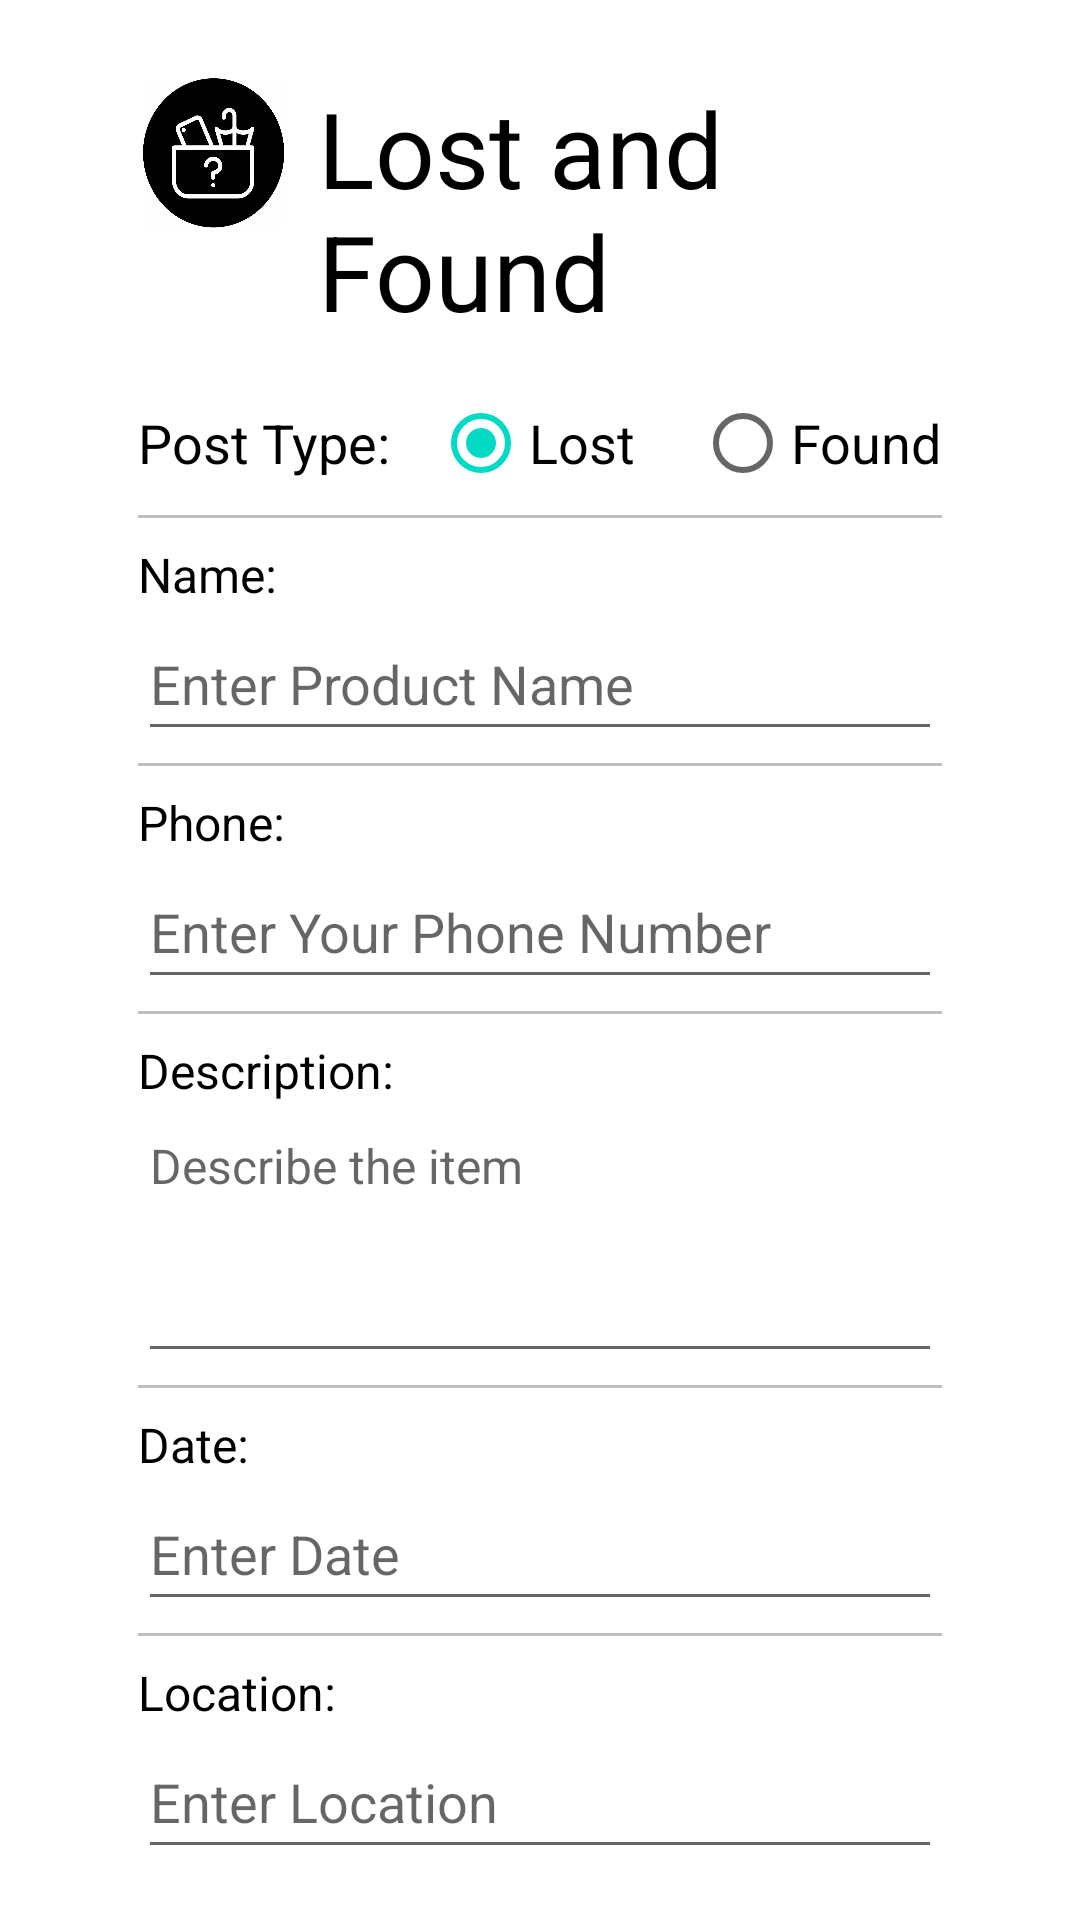

Icons on this 1080w x 1920h Android screen, each with the point to tap as [x,y]:
My App Icon: [213,153]
